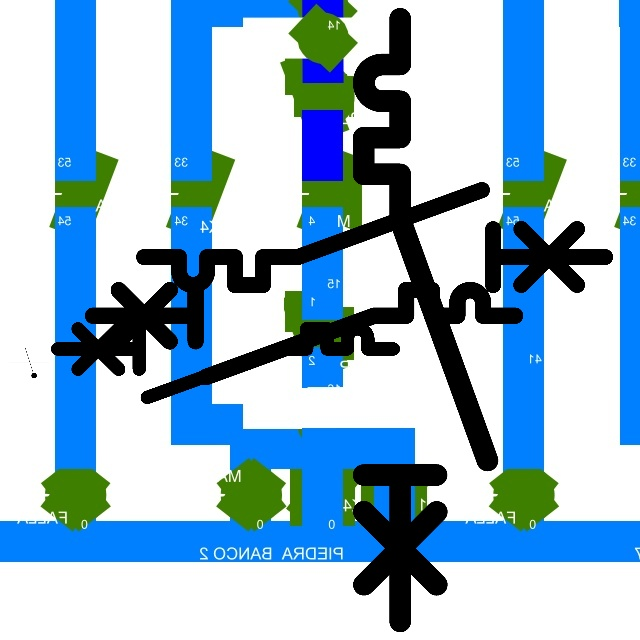interruptor_termomagnetico: (348, 3, 503, 637), (132, 178, 617, 297), (82, 279, 526, 387), (49, 320, 402, 406)
